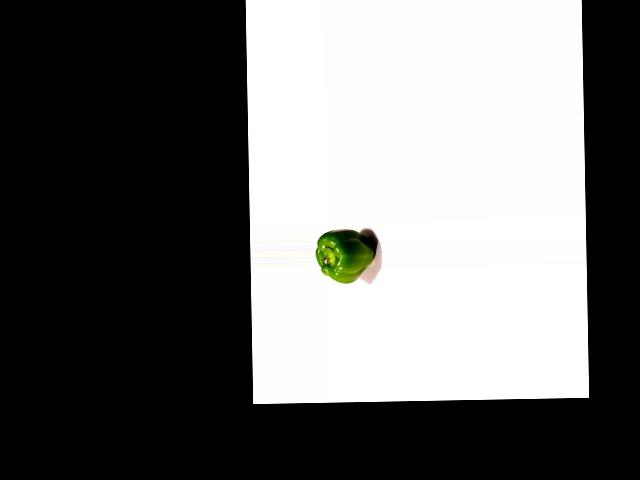bell_pepper: (315, 227, 377, 286)
